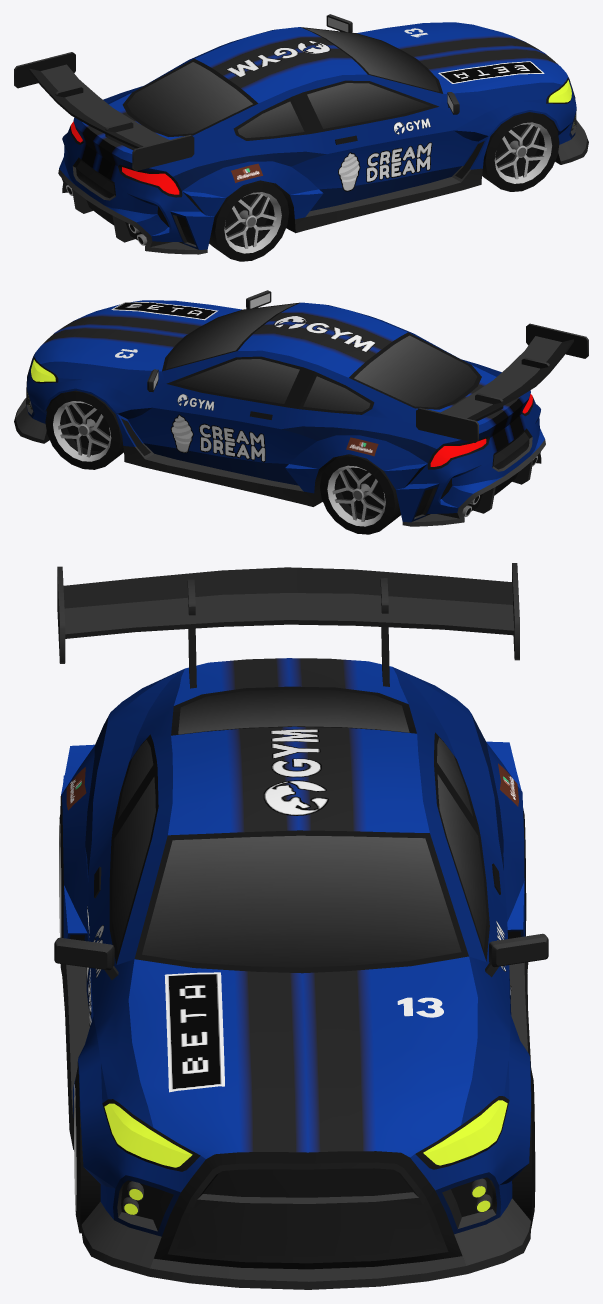
The model's file is RaceCar_025.glb.
3 views of the same model, one above another, from view 1: azimuth 30°, elevation 25°; view 2: azimuth 150°, elevation 25°; view 3: azimuth 270°, elevation 25° (orthographic). The views are drawn at different scales.
Parts seen in each view (by area): view 1: RaceCar_025, wheel_3_RaceCar_025_Wheel_3R, wheel_0_RaceCar_025_Wheel_1R; view 2: RaceCar_025, wheel_2_RaceCar_025_Wheel_3L, wheel_1_RaceCar_025_Wheel_2L; view 3: RaceCar_025, wheel_0_RaceCar_025_Wheel_1R, wheel_1_RaceCar_025_Wheel_2L.
Part boxes in pixels (x1,y1,x2,y2): RaceCar_025: (14,14,588,254); wheel_3_RaceCar_025_Wheel_3R: (209,180,289,261); wheel_0_RaceCar_025_Wheel_1R: (482,112,559,191); RaceCar_025: (14,290,588,526); wheel_2_RaceCar_025_Wheel_3L: (320,454,400,534); wheel_1_RaceCar_025_Wheel_2L: (45,390,123,469); RaceCar_025: (54,563,548,1289); wheel_0_RaceCar_025_Wheel_1R: (74,1065,100,1233); wheel_1_RaceCar_025_Wheel_2L: (512,1065,535,1228).
Bounding box in the file's own units: 5.22 × 1.43 × 2.27.
Materials: 3 (3 with a texture image).
